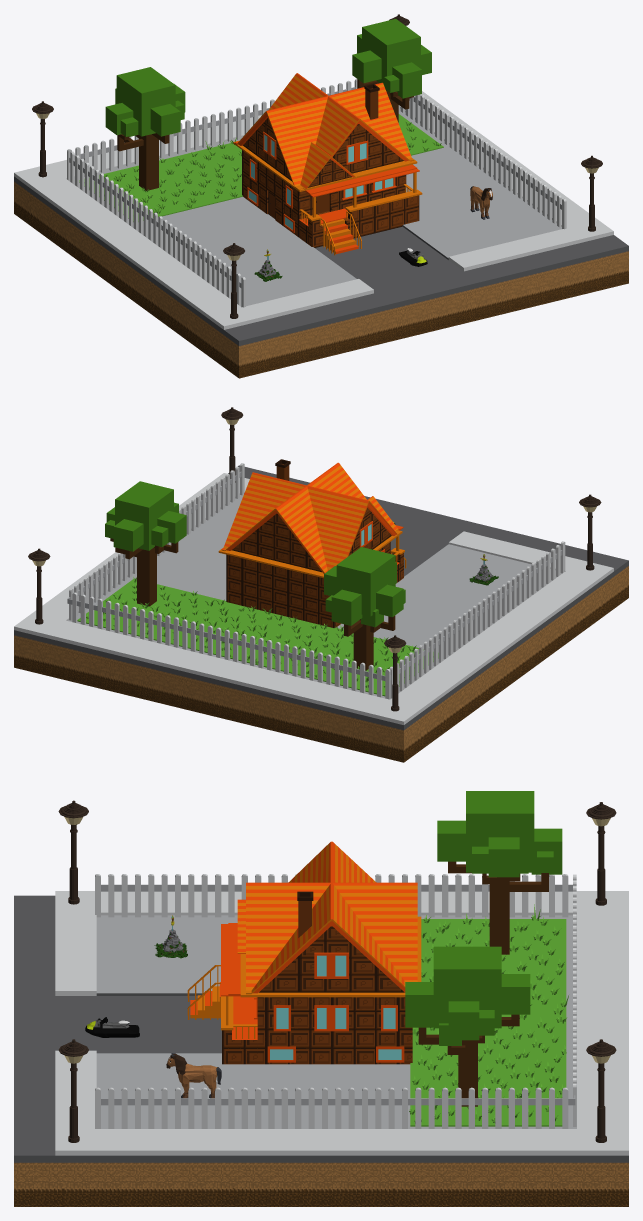
3 views of the same model, one above another, from view 1: azimuth 30°, elevation 25°; view 2: azimuth 150°, elevation 25°; view 3: azimuth 270°, elevation 25° (orthographic). The views are drawn at different scales.
Parts seen in each view (by area): view 1: Cube.004, Cube, ANIMAL_CABALLO; view 2: Cube.004, Cube; view 3: Cube.004, Cube, ANIMAL_CABALLO, VEHICLES_WATERBIKE, OBJRANDOM_SWORD_IN_THE_STONE.
Boxes of the visible parts, x1,y1,x2,y2 form: Cube.004: (14, 14, 628, 378); Cube: (233, 73, 422, 255); ANIMAL_CABALLO: (470, 186, 492, 219); Cube.004: (14, 407, 628, 762); Cube: (218, 459, 406, 627); Cube.004: (14, 791, 628, 1206); Cube: (187, 841, 421, 1064); ANIMAL_CABALLO: (166, 1053, 221, 1098); VEHICLES_WATERBIKE: (85, 1017, 139, 1037); OBJRANDOM_SWORD_IN_THE_STONE: (154, 915, 187, 958).
Bounding box in the file's own units: 4000 × 1624 × 4000.
Materials: 34 (5 with a texture image).
